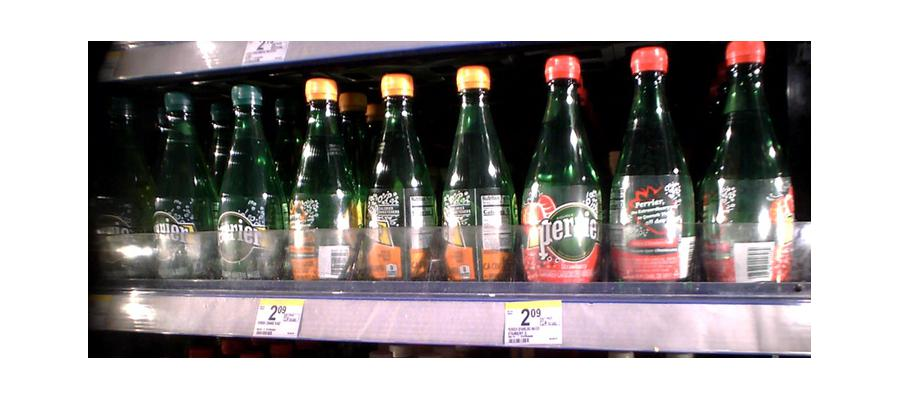bottle: (706, 35, 794, 295), (611, 45, 697, 296), (522, 60, 604, 293), (444, 67, 517, 291), (283, 77, 356, 289), (364, 78, 436, 286), (213, 86, 281, 288), (151, 93, 210, 284)
